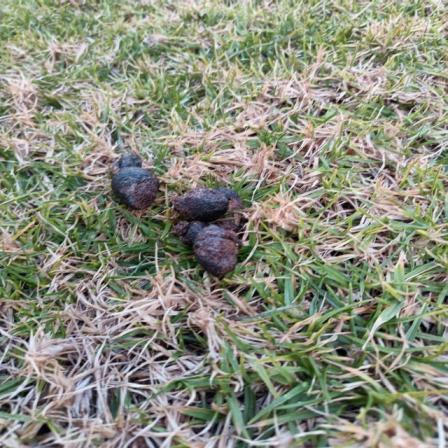dog-poop: (113, 148, 264, 278)
